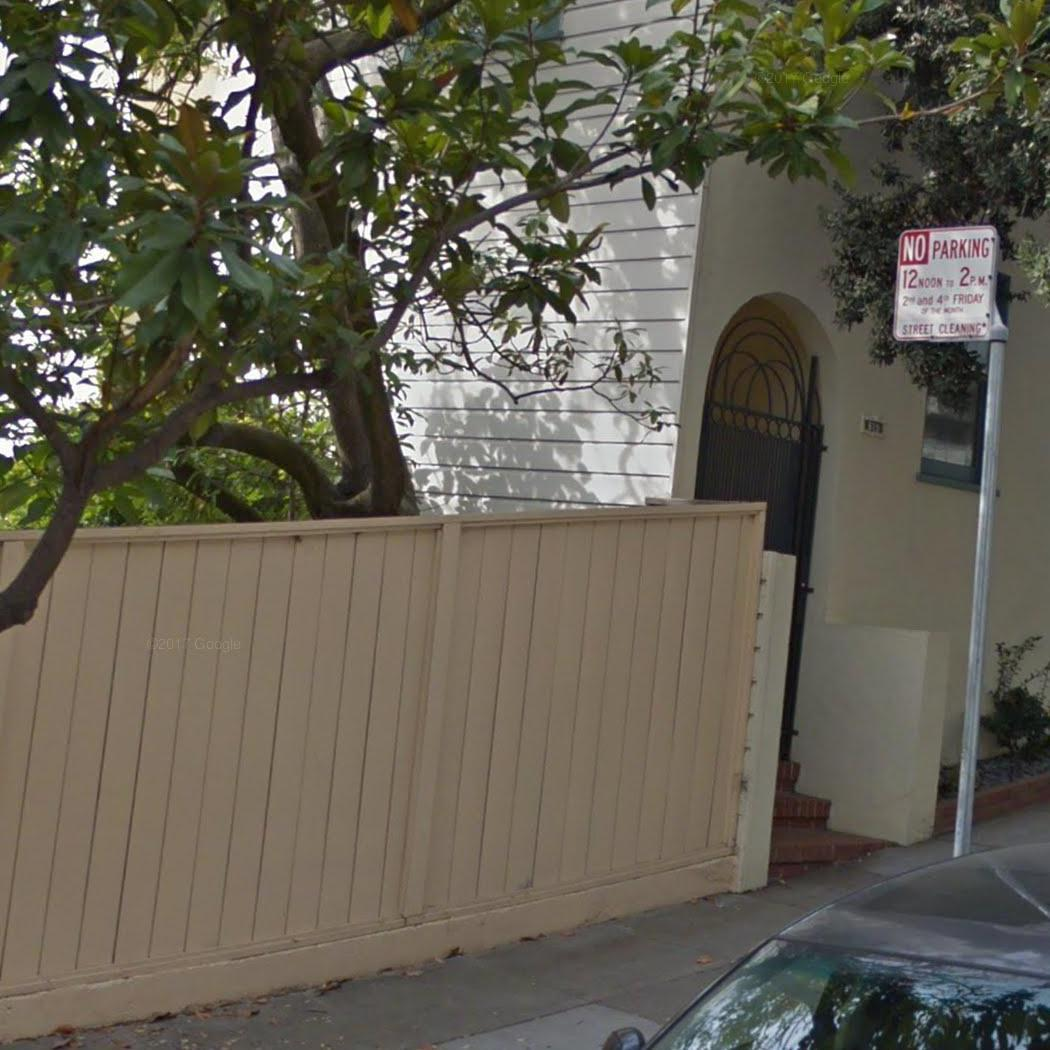No Parking: (891, 220, 1000, 346)
